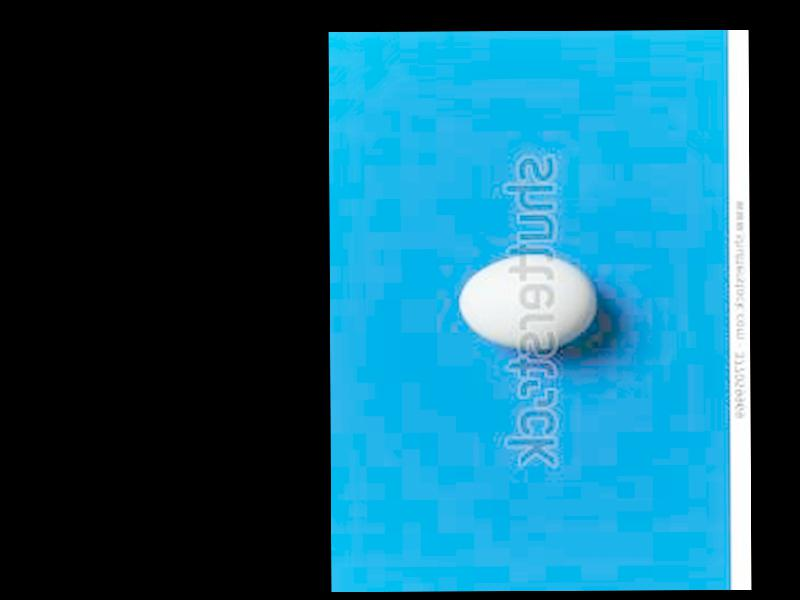Eggs: (455, 256, 596, 349)
